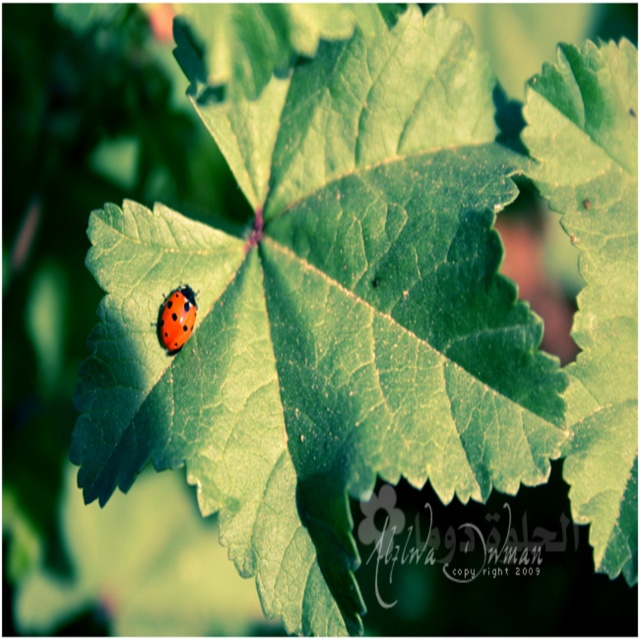Ladybug: (160, 285, 198, 353)
